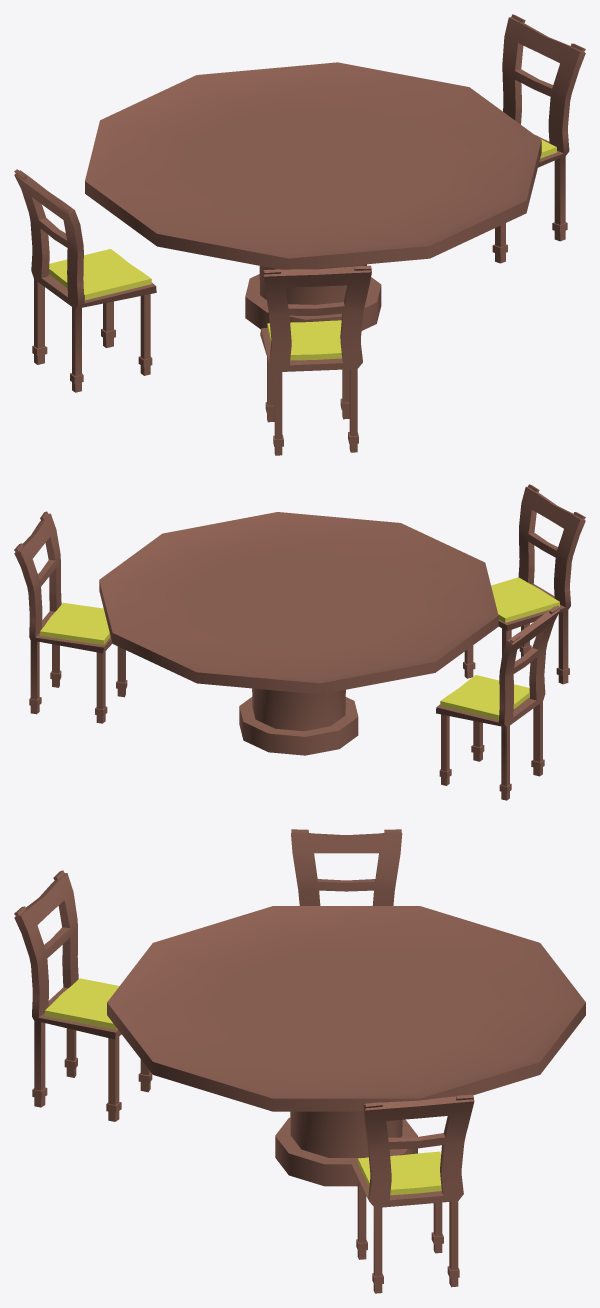
The model's file is table1.fbx.
3 renders of one model, top to bottom at view 1: azimuth 30°, elevation 25°; view 2: azimuth 150°, elevation 25°; view 3: azimuth 270°, elevation 25°, orthographic. The views are drawn at different scales.
Parts seen in each view (by area): view 1: table, chair.002, chair, chair.003; view 2: table, chair, chair.003, chair.002; view 3: table, chair.003, chair.002, chair.
Part boxes in pixels (x1,y1,x2,y2): table: (85, 62, 541, 330); chair.002: (260, 265, 371, 455); chair: (14, 169, 156, 392); chair.003: (492, 14, 585, 263); table: (99, 512, 498, 755); chair: (436, 605, 560, 800); chair.003: (14, 511, 127, 723); chair.002: (463, 484, 585, 684); table: (107, 906, 585, 1186); chair.003: (350, 1094, 474, 1293); chair.002: (14, 870, 152, 1121); chair: (291, 829, 402, 905).
Size of the model in its own units: 2.74 by 0.9045 by 2.39.
